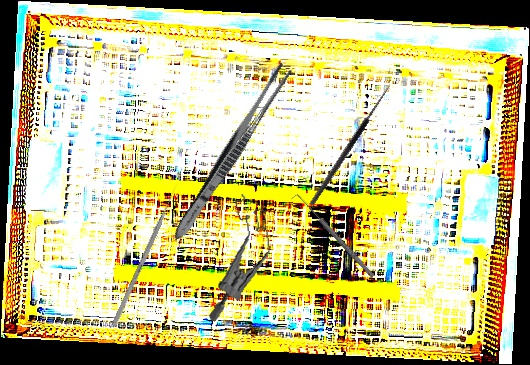Dressing Forceps: (169, 60, 294, 244)
Hook Surgical: (303, 78, 393, 207), (290, 191, 377, 282)
Pusher: (111, 182, 180, 327)
Speculum: (193, 191, 281, 322)
